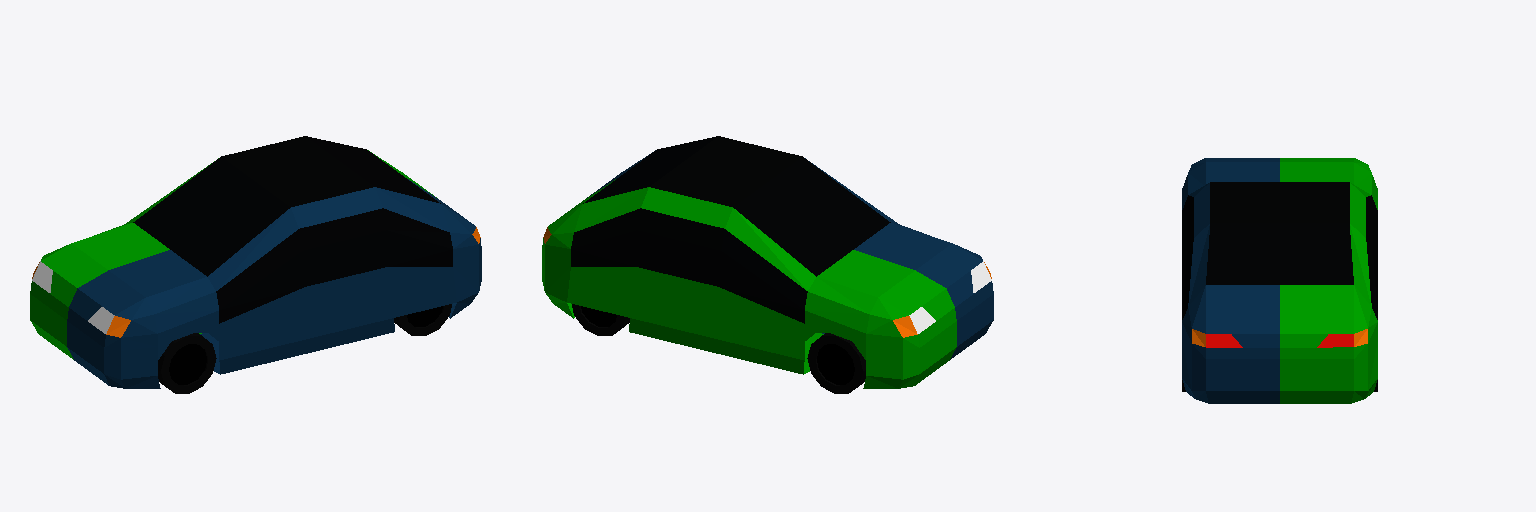
File: car.obj
The picture shows the model from 3 angles: view 1: azimuth 30°, elevation 25°; view 2: azimuth 150°, elevation 25°; view 3: azimuth 270°, elevation 25°; orthographic projection.
Parts seen in each view (by area): view 1: Cube_Cube.001, Circle.001_Circle, Circle; view 2: Cube_Cube.001, Circle.001_Circle, Circle; view 3: Cube_Cube.001.
Part boxes in pixels (left/top/right/bottom): Cube_Cube.001: left=30, top=136, right=481, bottom=388; Circle.001_Circle: left=158, top=333, right=216, bottom=393; Circle: left=394, top=304, right=451, bottom=335; Cube_Cube.001: left=542, top=136, right=993, bottom=388; Circle.001_Circle: left=807, top=333, right=865, bottom=393; Circle: left=572, top=304, right=629, bottom=335; Cube_Cube.001: left=1182, top=158, right=1377, bottom=403.
Bounding box in the file's own units: 4 × 1.5 × 1.8.